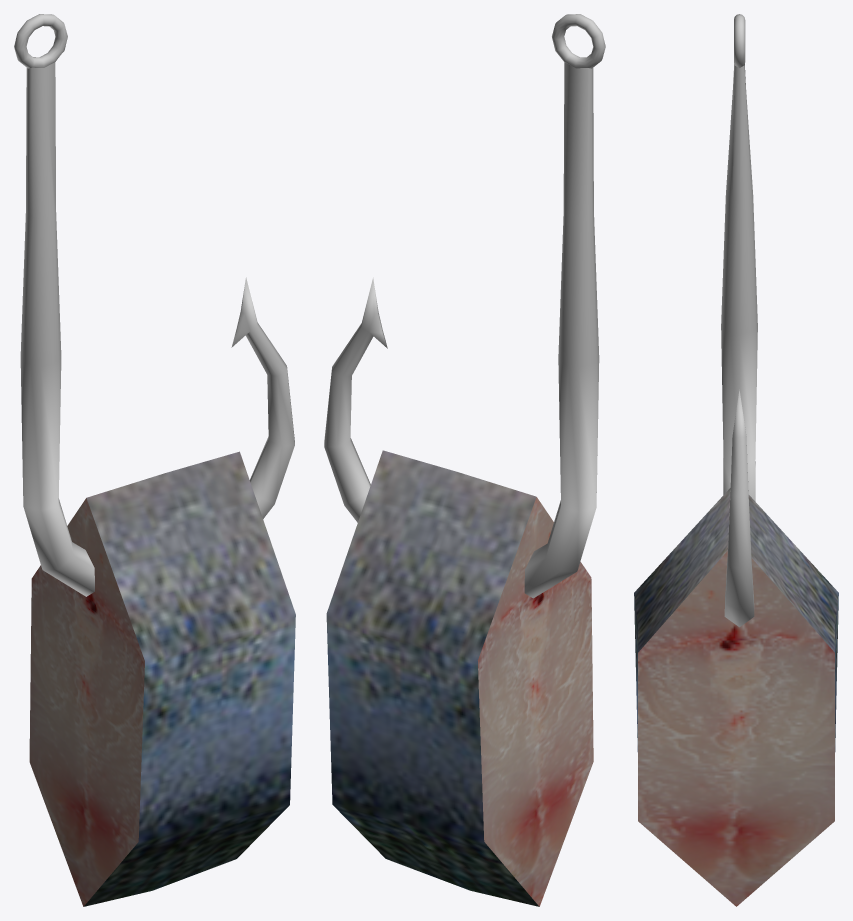
The model's file is Bait_LargescaleBlackfish.fbx.
3 views of the same model, side by side, from view 1: azimuth 30°, elevation 25°; view 2: azimuth 150°, elevation 25°; view 3: azimuth 270°, elevation 25° (orthographic). The views are drawn at different scales.
Parts seen in each view (by area): view 1: Bait_GirellaPunctata; view 2: Bait_GirellaPunctata; view 3: Bait_GirellaPunctata.
Boxes of the visible parts, bbox=[...] form: Bait_GirellaPunctata: bbox=[14, 14, 295, 906]; Bait_GirellaPunctata: bbox=[324, 14, 605, 906]; Bait_GirellaPunctata: bbox=[634, 14, 838, 906].
Bounding box in the file's own units: 0.2116 × 0.6515 × 0.1484.
